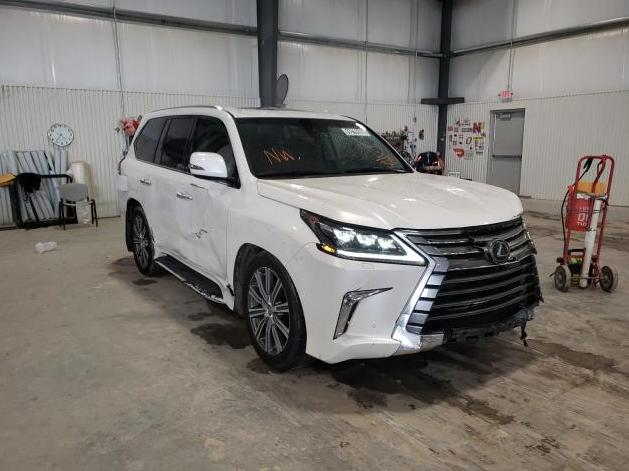Back-bumper: (116, 174, 128, 251)
Back-door: (137, 114, 194, 250)
Back-wheel: (130, 206, 166, 276)
Back-window: (134, 116, 167, 165)
Fender: (226, 190, 319, 287)
Front-bumper: (283, 243, 425, 365)
Front-door: (168, 115, 241, 280)
Front-wheel: (242, 252, 315, 372)
Grille: (389, 216, 542, 358)
Headlight: (299, 209, 427, 266)
Hood: (257, 172, 523, 229)
Mirror: (190, 152, 238, 179)
Quarter-panel: (119, 157, 148, 200)
Rocker-panel: (154, 246, 233, 310)
Roof: (147, 106, 354, 119)
Windshield: (233, 118, 415, 178)
